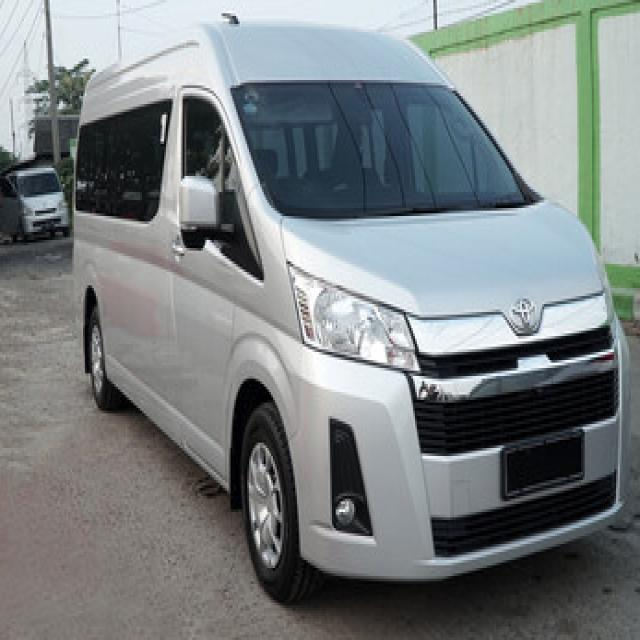van: (75, 24, 627, 600), (0, 165, 68, 243)
